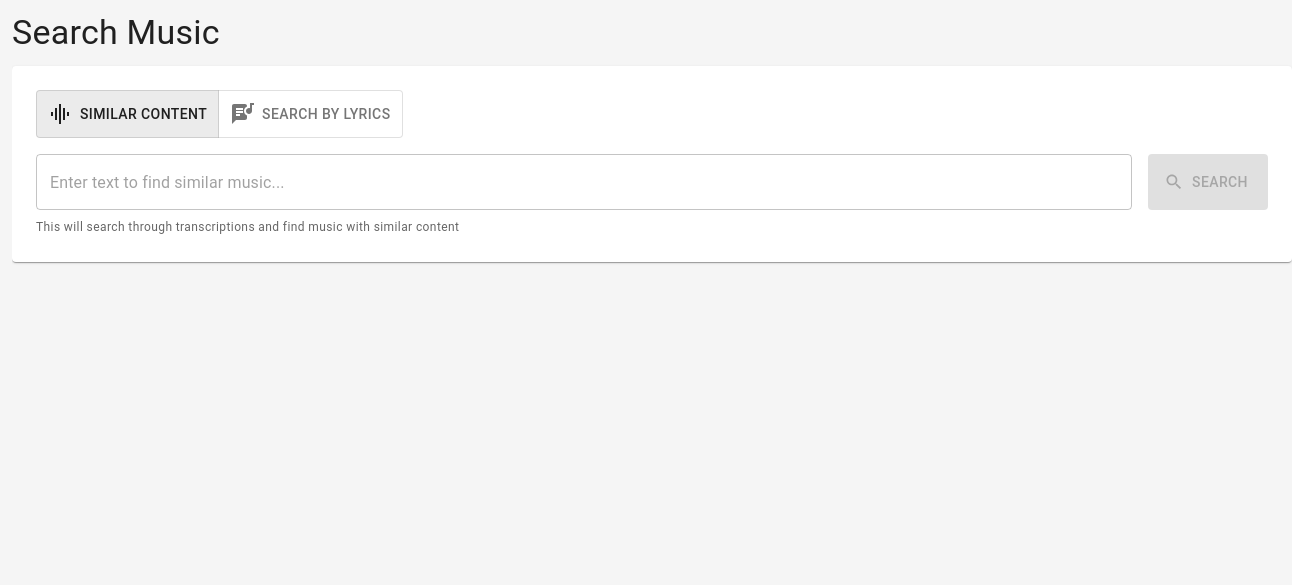
Test case: SearchPage Component › handles lyrics search
The width and height of the screenshot is (1292, 585).
Note: Switch to lyrics mode
Click the button "Search by Lyrics" at coordinates (310, 114), box [218, 90, 402, 138]
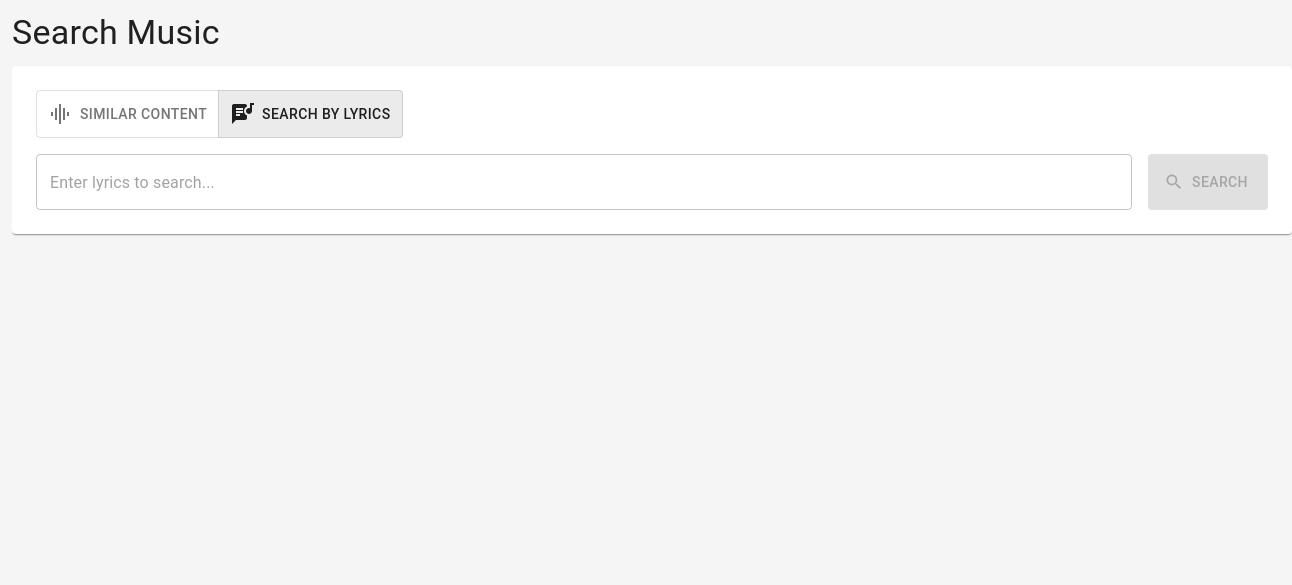
Type "lyrics query" into the field with placeholder "Enter lyrics to search..." at coordinates (584, 182), box [36, 154, 1132, 210]
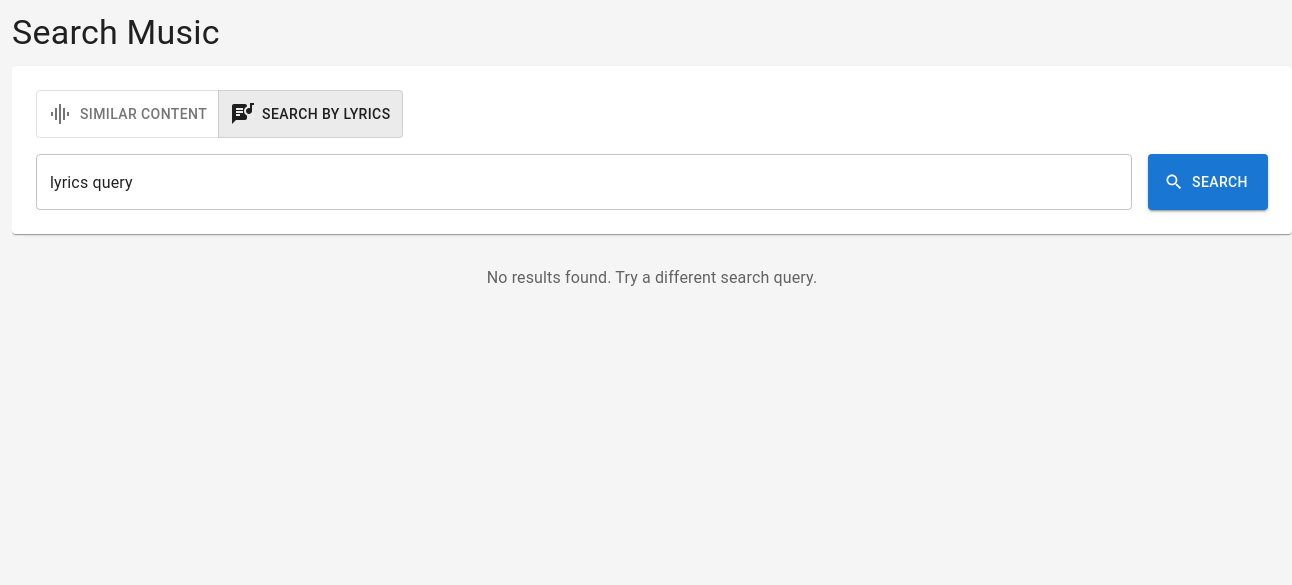
Click the button "Search" at coordinates (1208, 182), box [1148, 154, 1268, 210]
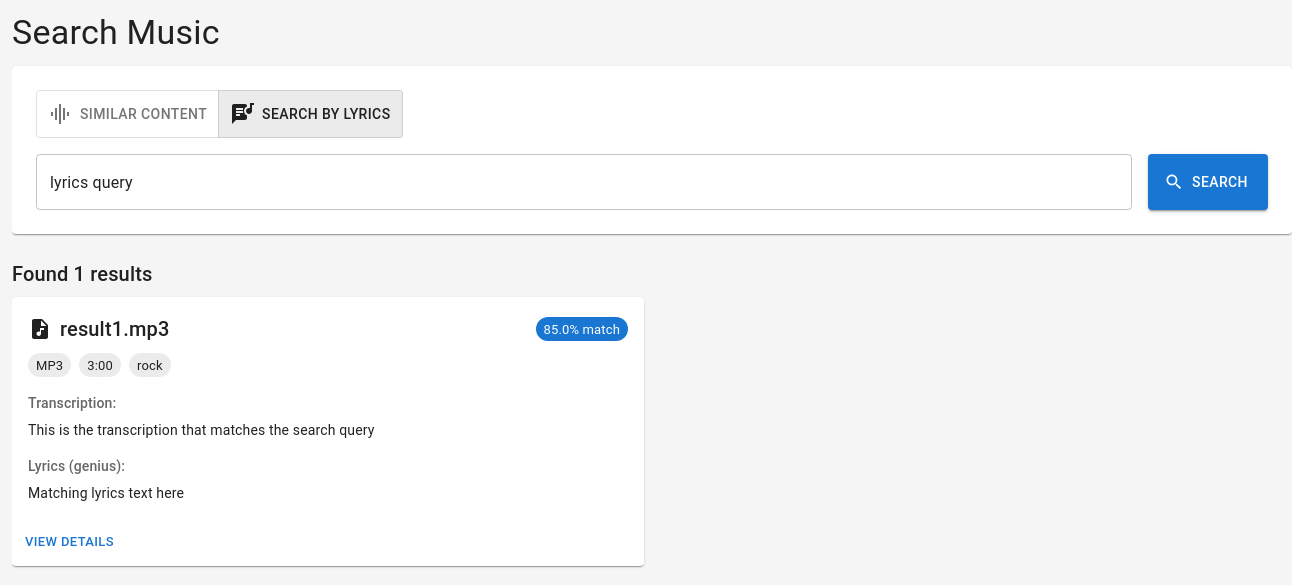
expect the heading "Found 1 results" is shown: met, box [12, 262, 152, 286]
